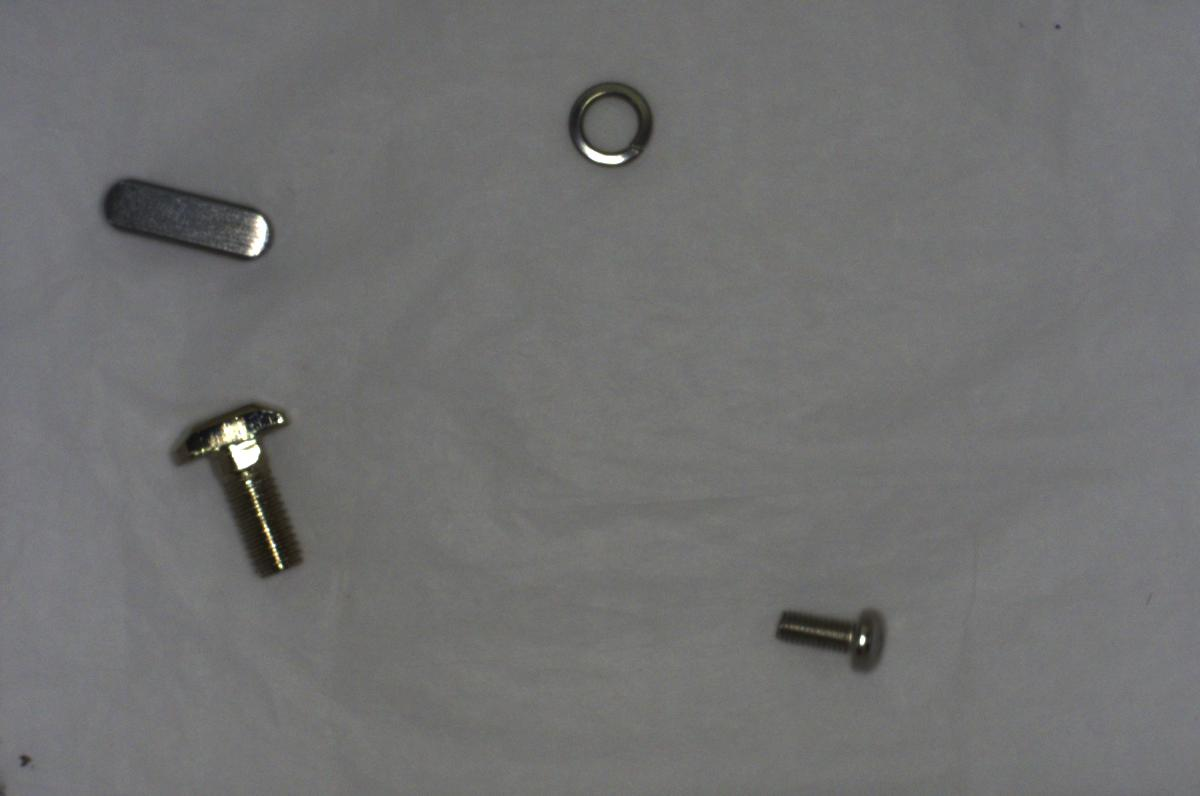Keybar: (94, 170, 273, 268)
Round head screw: (760, 592, 893, 678)
Spring washer: (558, 72, 664, 181)
T-shaped screw: (162, 394, 310, 583)
